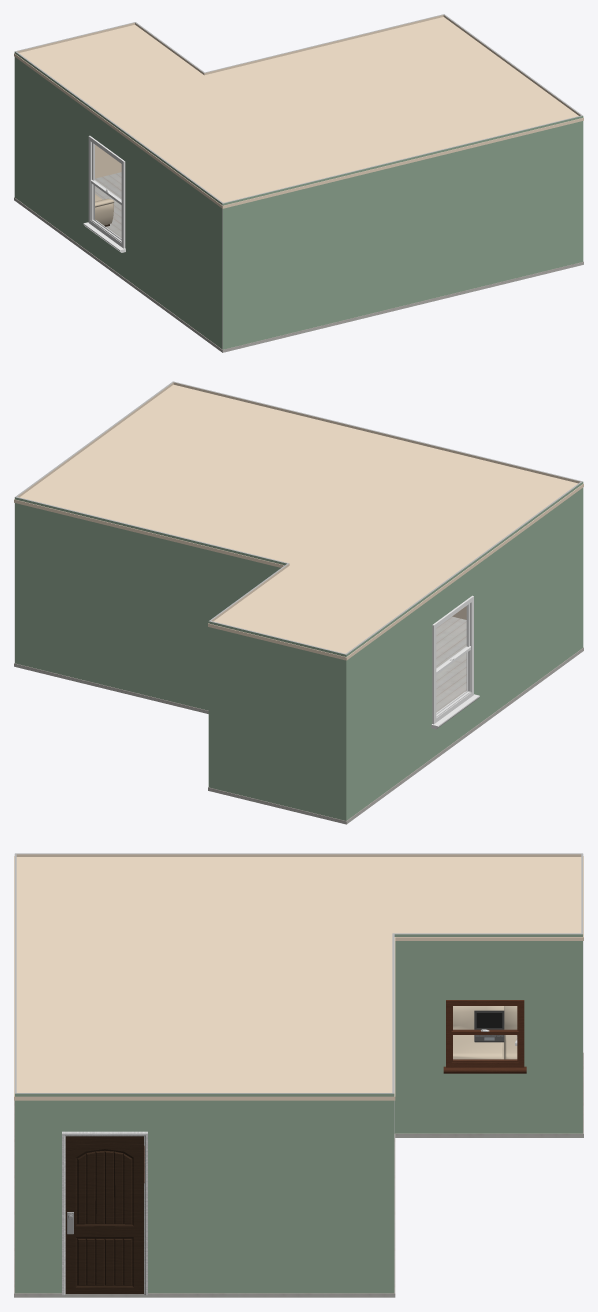
The model's file is ProcTHOR-Train-70.glb.
The picture shows the model from 3 angles, top to bottom: view 1: azimuth 30°, elevation 25°; view 2: azimuth 150°, elevation 25°; view 3: azimuth 270°, elevation 25°; orthographic projection. The views are drawn at different scales.
Visible parts, largest first — view 1: Ceiling#room|2|c, WallInside#wall|exterior|0.00|6.59|6.59|6.59, WallInside#wall|exterior|6.59|0.00|6.59|6.59, Floor#room|2|f, Window_Hung_44x60, WallInside#wall|2|4.39|0.00|6.59|0.00, WallInside#wall|2|0.00|2.20|4.39|2.20, RoboTHOR_sofa_vreta, WallInside#wall|2|0.00|2.20|0.00|6.59; view 2: Ceiling#room|2|c, WallInside#wall|exterior|6.59|0.00|6.59|6.59, WallInside#wall|exterior|0.00|2.20|4.39|2.20, WallInside#wall|exterior|4.39|0.00|6.59|0.00, Floor#room|2|f, Window_Hung_44x60, WallInside#wall|2|0.00|6.59|6.59|6.59, WallInside#wall|2|0.00|2.20|0.00|6.59; view 3: Ceiling#room|2|c, WallInside#wall|exterior|0.00|2.20|0.00|6.59, WallInside#wall|exterior|4.39|0.00|4.39|2.20, Doorway_9, Floor#room|2|f, Window_Hung_36x32, RoboTHOR_sofa_vreta, WallInside#wall|2|6.59|0.00|6.59|6.59, Laptop_3, WallInside#wall|exterior|0.00|6.59|6.59|6.59, WallInside#wall|exterior|6.59|0.00|6.59|6.59.
Part boxes in pixels (x1=…): Ceiling#room|2|c: x1=14, y1=17, x2=583, y2=208; WallInside#wall|exterior|0.00|6.59|6.59|6.59: x1=223, y1=116, x2=583, y2=349; WallInside#wall|exterior|6.59|0.00|6.59|6.59: x1=14, y1=51, x2=222, y2=349; Floor#room|2|f: x1=14, y1=172, x2=583, y2=352; Window_Hung_44x60: x1=83, y1=135, x2=125, y2=252; WallInside#wall|2|4.39|0.00|6.59|0.00: x1=15, y1=22, x2=134, y2=178; WallInside#wall|2|0.00|2.20|4.39|2.20: x1=204, y1=14, x2=444, y2=75; RoboTHOR_sofa_vreta: x1=95, y1=194, x2=114, y2=226; WallInside#wall|2|0.00|2.20|0.00|6.59: x1=443, y1=14, x2=581, y2=115; Ceiling#room|2|c: x1=14, y1=384, x2=583, y2=660; WallInside#wall|exterior|6.59|0.00|6.59|6.59: x1=346, y1=481, x2=583, y2=820; WallInside#wall|exterior|0.00|2.20|4.39|2.20: x1=15, y1=497, x2=287, y2=710; WallInside#wall|exterior|4.39|0.00|6.59|0.00: x1=208, y1=621, x2=346, y2=820; Floor#room|2|f: x1=14, y1=616, x2=583, y2=824; Window_Hung_44x60: x1=431, y1=595, x2=479, y2=729; WallInside#wall|2|0.00|6.59|6.59|6.59: x1=173, y1=382, x2=582, y2=619; WallInside#wall|2|0.00|2.20|0.00|6.59: x1=16, y1=382, x2=173, y2=497; Ceiling#room|2|c: x1=14, y1=856, x2=583, y2=1100; WallInside#wall|exterior|0.00|2.20|0.00|6.59: x1=15, y1=1093, x2=394, y2=1293; WallInside#wall|exterior|4.39|0.00|4.39|2.20: x1=393, y1=933, x2=582, y2=1133; Doorway_9: x1=62, y1=1131, x2=147, y2=1295; Floor#room|2|f: x1=14, y1=1052, x2=583, y2=1297; Window_Hung_36x32: x1=443, y1=1000, x2=526, y2=1073; RoboTHOR_sofa_vreta: x1=453, y1=1006, x2=517, y2=1059; WallInside#wall|2|6.59|0.00|6.59|6.59: x1=16, y1=854, x2=581, y2=856; Laptop_3: x1=474, y1=1010, x2=504, y2=1042; WallInside#wall|exterior|0.00|6.59|6.59|6.59: x1=14, y1=853, x2=15, y2=1292; WallInside#wall|exterior|6.59|0.00|6.59|6.59: x1=15, y1=853, x2=582, y2=853.
Size of what is drawn, in the model's own units: 6.82 by 2.61 by 6.63.
70 materials, 24 textured.
